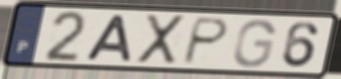2: (43, 10, 88, 63)
6: (282, 21, 319, 70)
A: (82, 13, 134, 63)
G: (231, 17, 277, 69)
P: (179, 16, 231, 66)
X: (135, 13, 187, 66)
